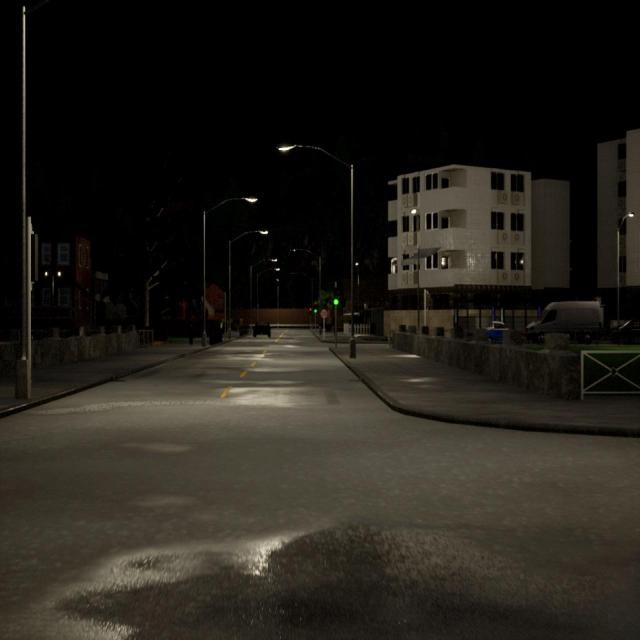Traffic_Signs: (320, 309, 328, 321)
Vehicle: (521, 300, 603, 334), (481, 318, 513, 344), (614, 310, 640, 338), (252, 319, 272, 340)
traffic_light: (26, 230, 40, 288), (424, 291, 431, 313), (333, 288, 339, 310), (314, 305, 318, 317), (310, 304, 312, 316)
